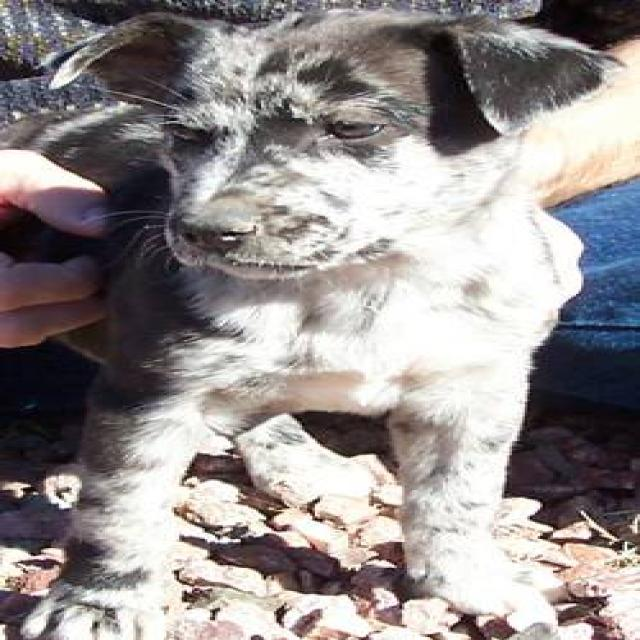Dog: (38, 0, 621, 306)
